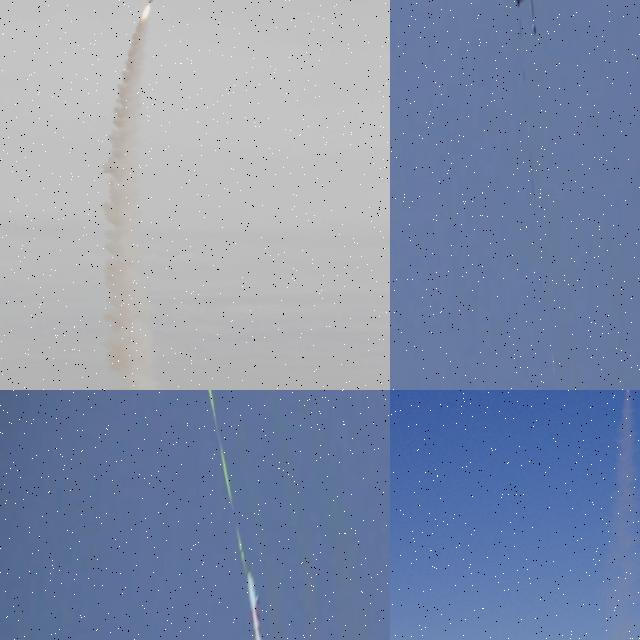Rocket: (246, 564, 279, 640), (147, 0, 156, 5)
